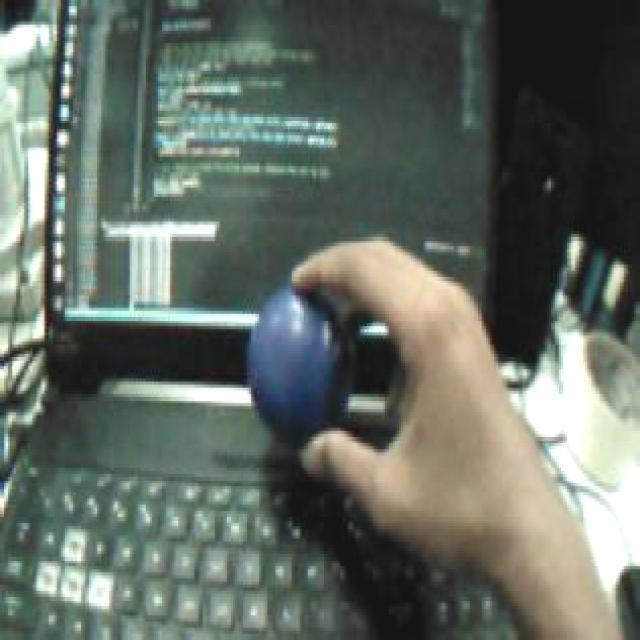BallPurple: (248, 287, 352, 435)
